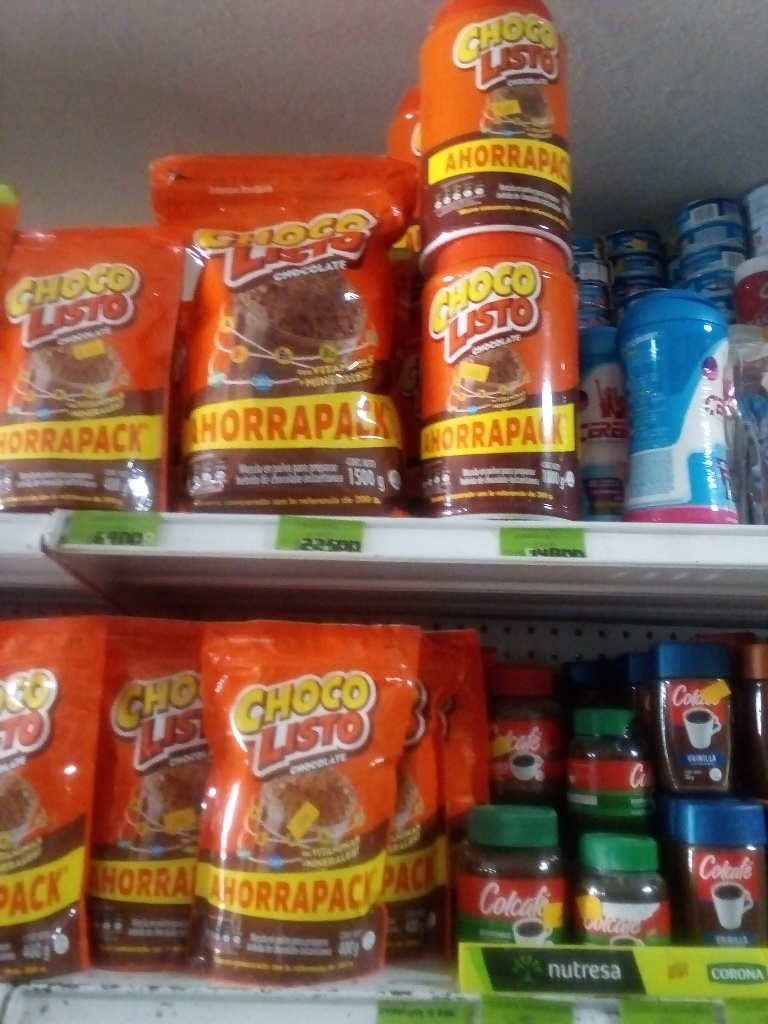COL0170103DYP1,500: (147, 151, 414, 515)
COL0170103DYP40000: (2, 224, 176, 513)
COL0170103TRR00100: (405, 231, 579, 518)
